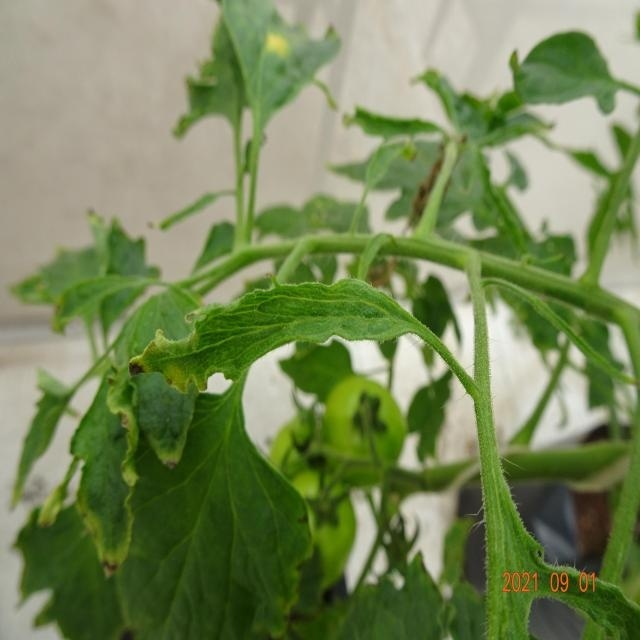T_L_R: (128, 279, 455, 394)
T_S_R: (467, 256, 541, 573)
